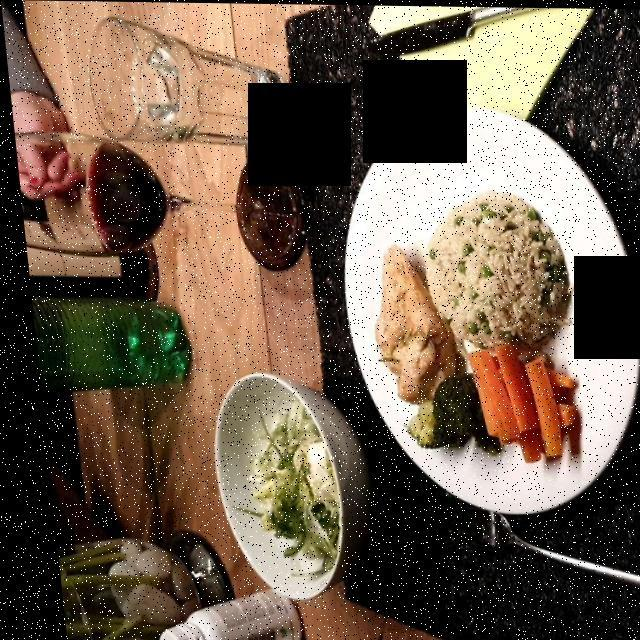broccoli: (405, 373, 487, 459)
carrot: (458, 347, 571, 463)
chicken-breast: (369, 243, 440, 398)
peas: (449, 205, 557, 322)
rice: (421, 194, 553, 349)
salad: (232, 397, 335, 548)
water: (137, 42, 272, 143)
wine: (95, 151, 161, 248)
